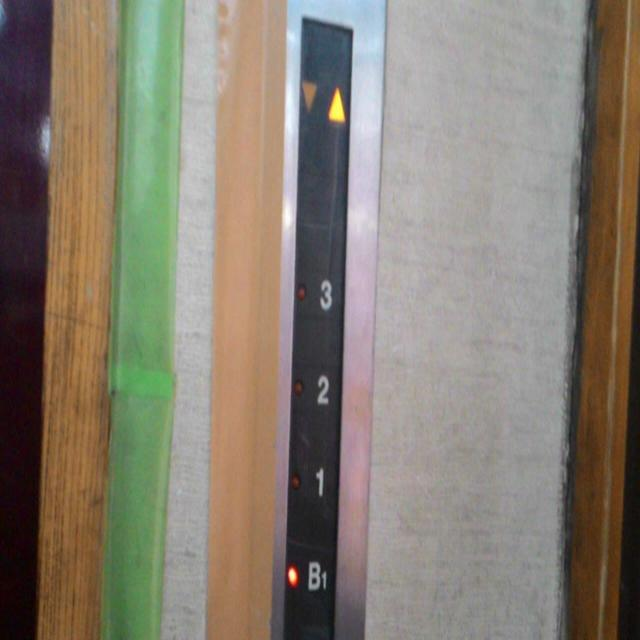1: (286, 452, 340, 514)
2: (288, 360, 344, 411)
3: (292, 263, 345, 322)
B1: (283, 539, 337, 609)
